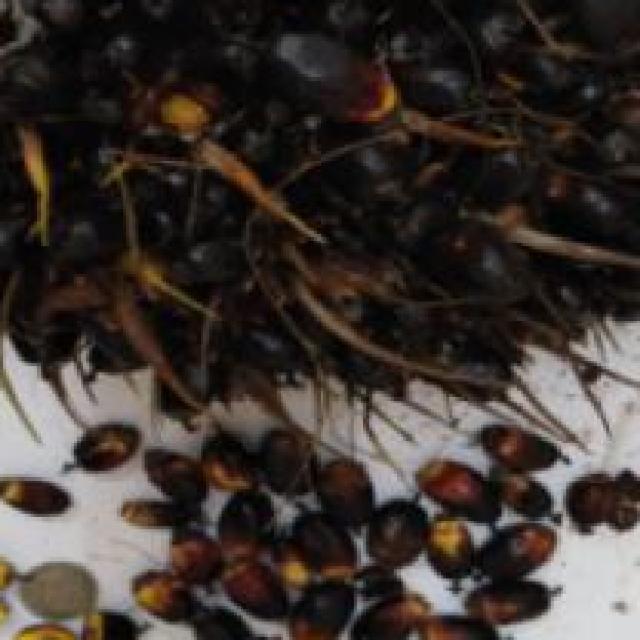unripe: (0, 0, 640, 517)
